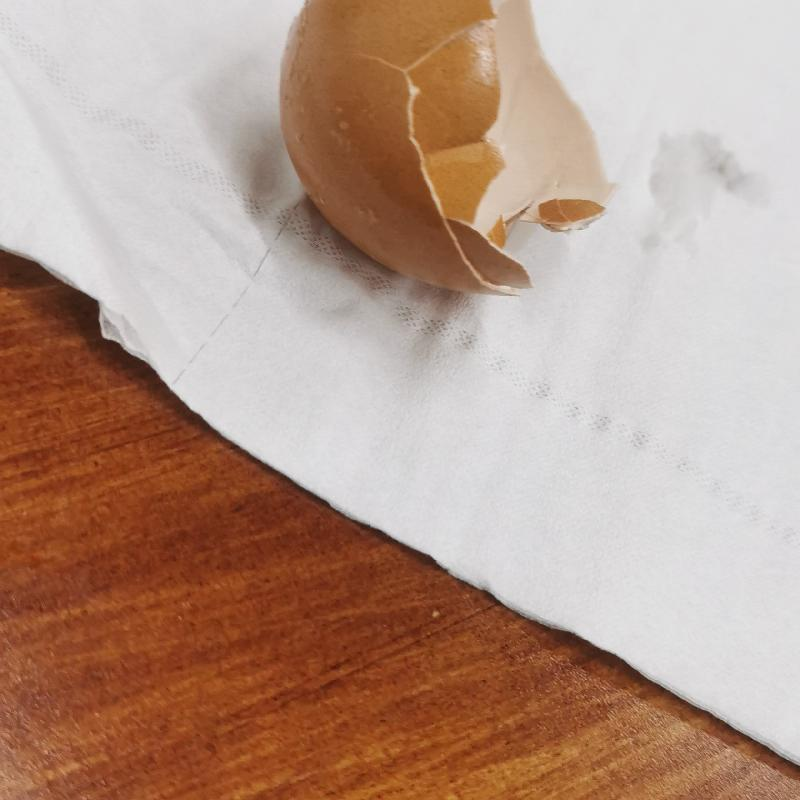eggshell: (280, 2, 608, 297)
